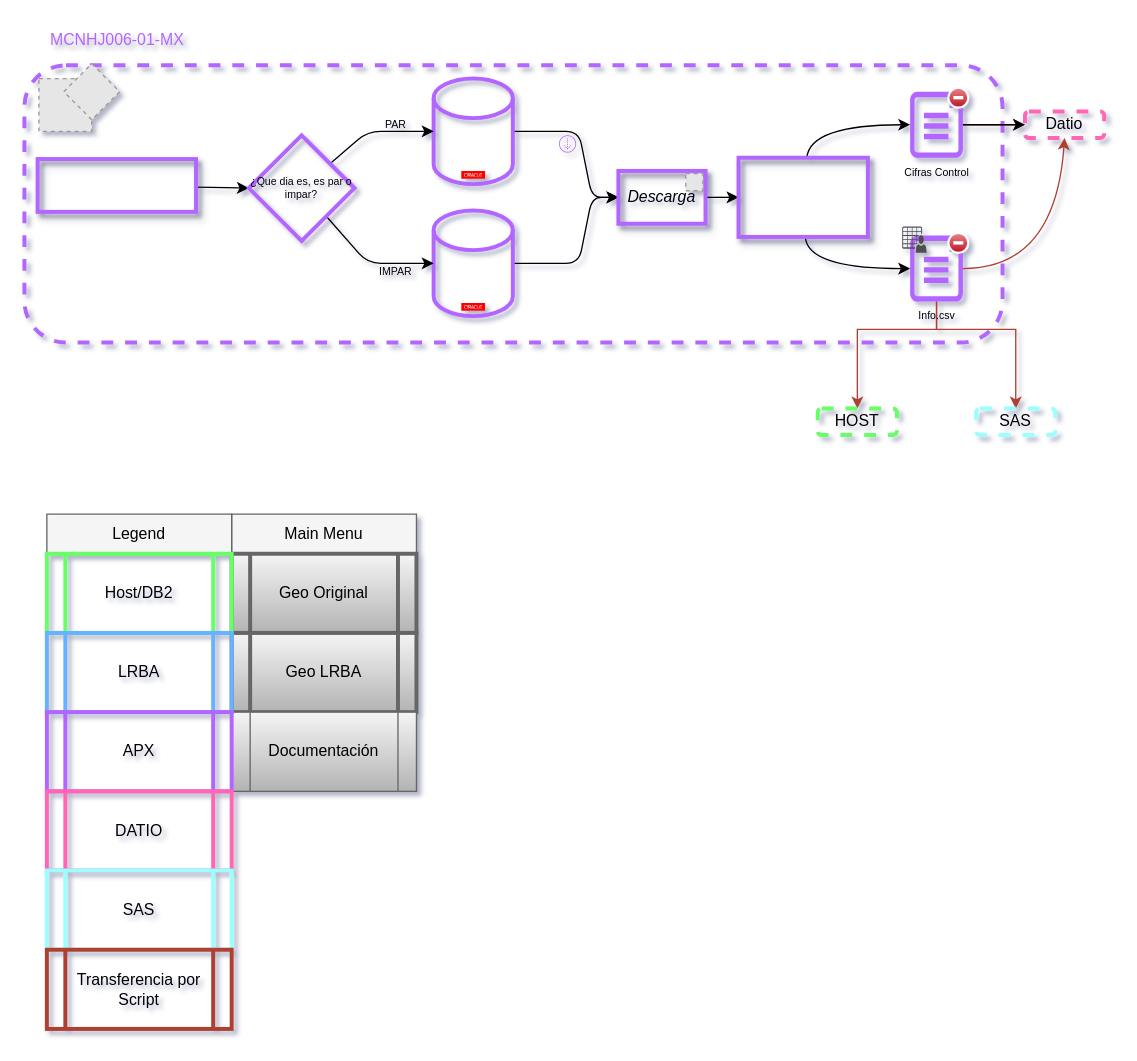
The diagram is 1137 pixels wide and 1061 high, and some of its shapes have lost their labels. Grey dashed boxes stand in for pictures. The centre of each missing label's shape, as x and y in pixels:
Determina que tabla descargar: point 117,186
Logica para generar Cifras de control y csv de informacion: point 804,199
MCNH.T_MCNH _LOCATION_A: point 472,130
MCNH.T_MCNH _LOCATION_B: point 472,262
